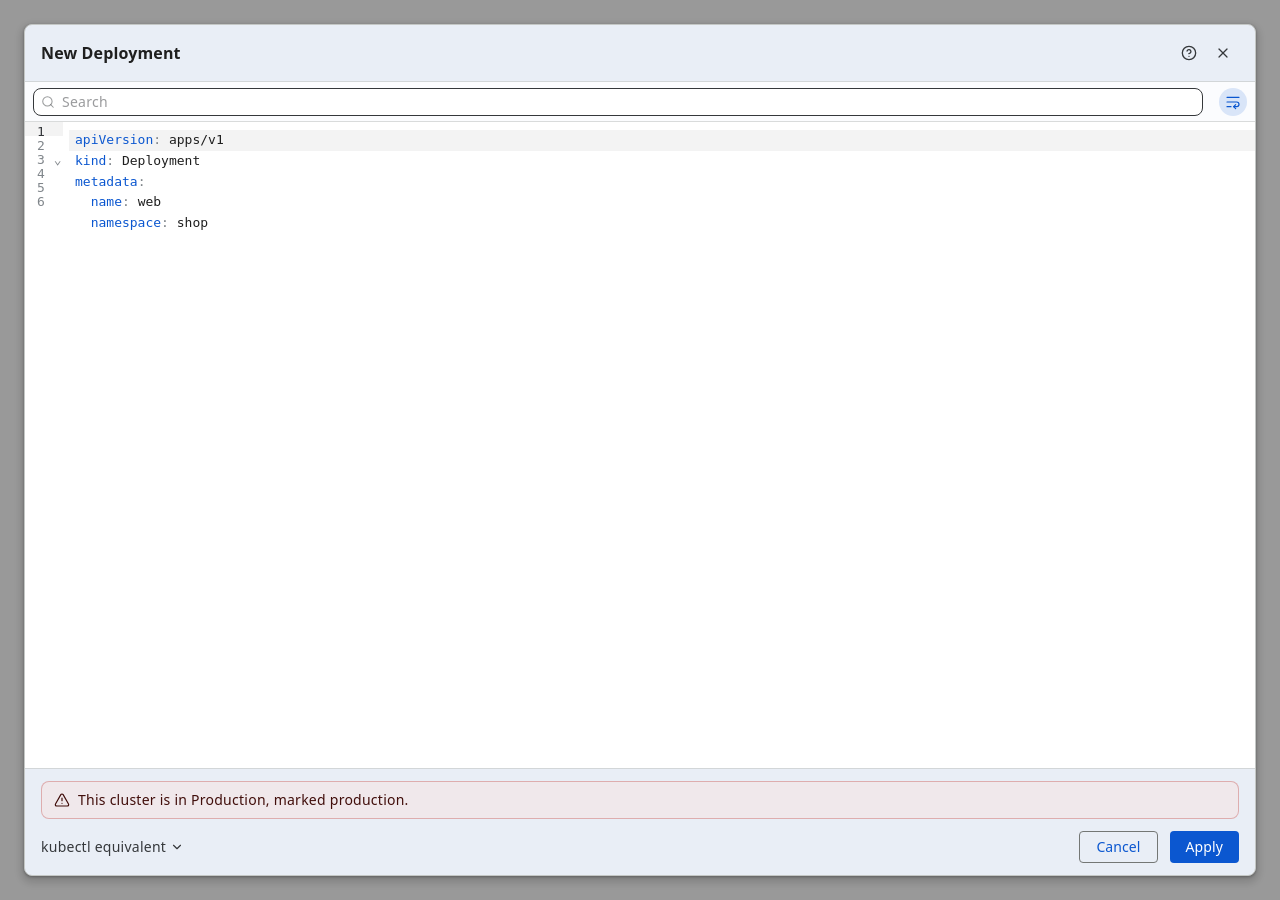
a refused apply › gates the override behind the object name on a production cluster
The width and height of the screenshot is (1280, 900).
Click the button "Apply" at point(1204, 847), box [1170, 831, 1239, 863]
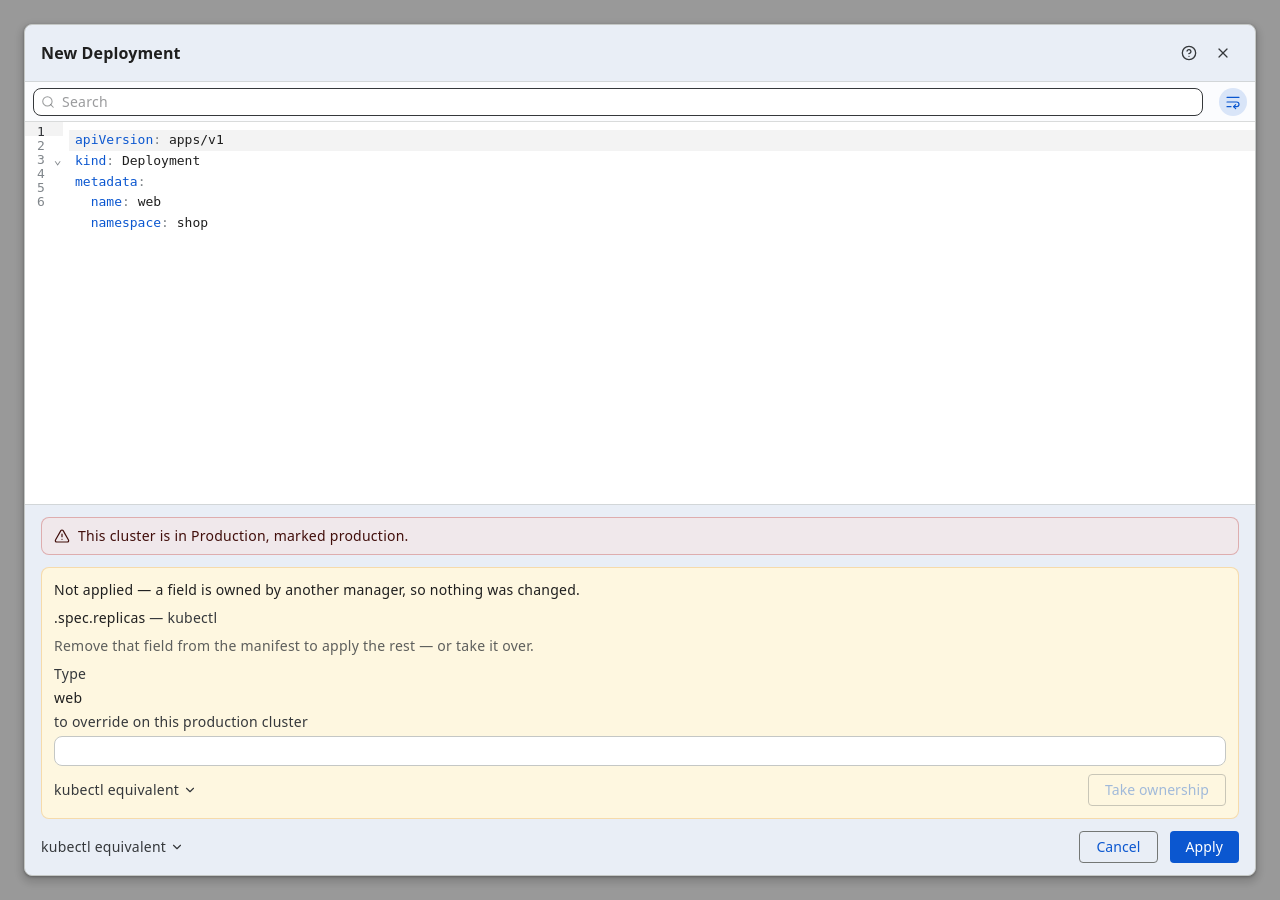
Result: the button "Take ownership" is disabled at [1088, 774, 1226, 806]
Result: the text "Type web to override" is shown at [54, 664, 1226, 766]
Type "web" into the field with test id "override-confirm" at point(640, 751), box [54, 736, 1226, 766]
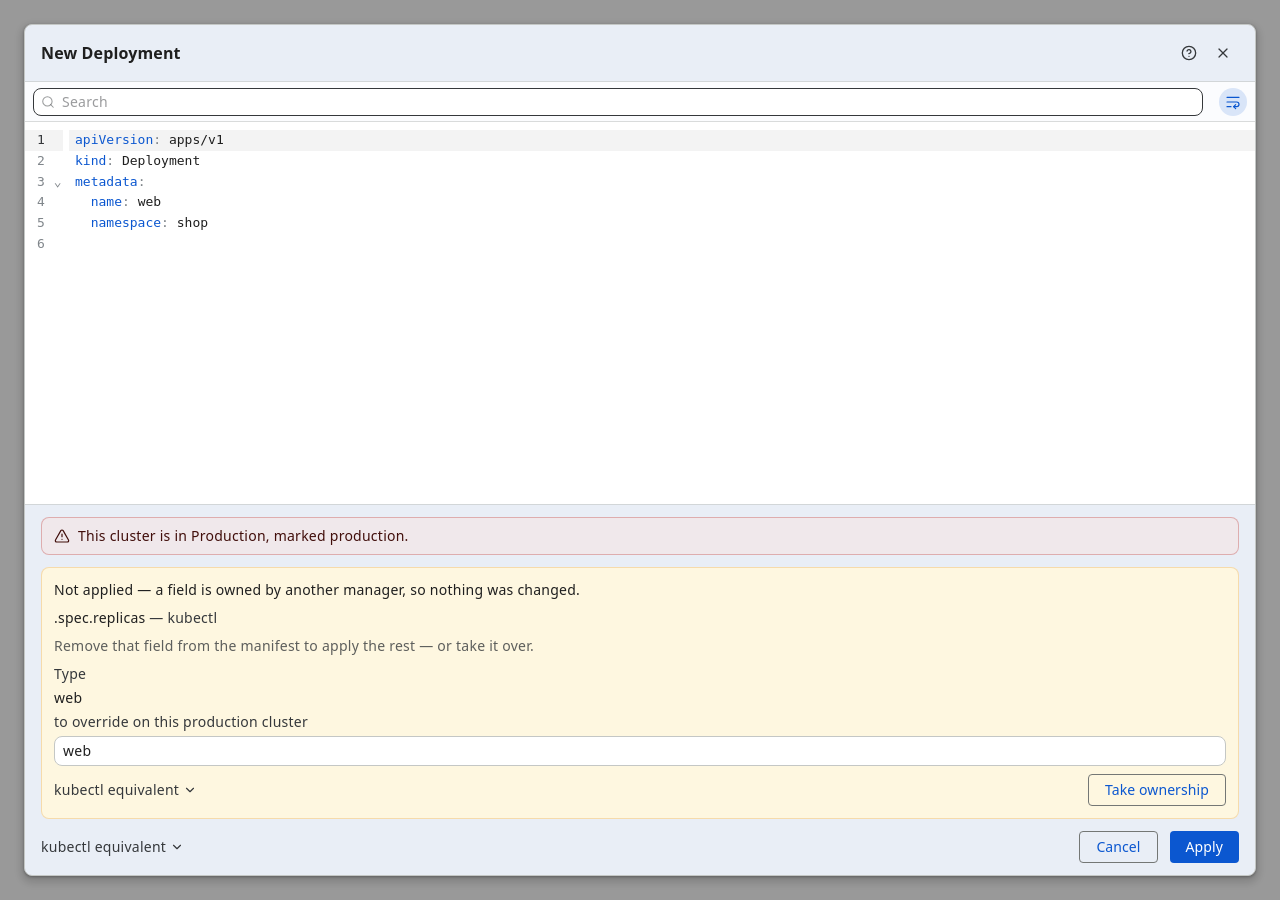
Result: the button "Take ownership" is enabled at [1088, 774, 1226, 806]
